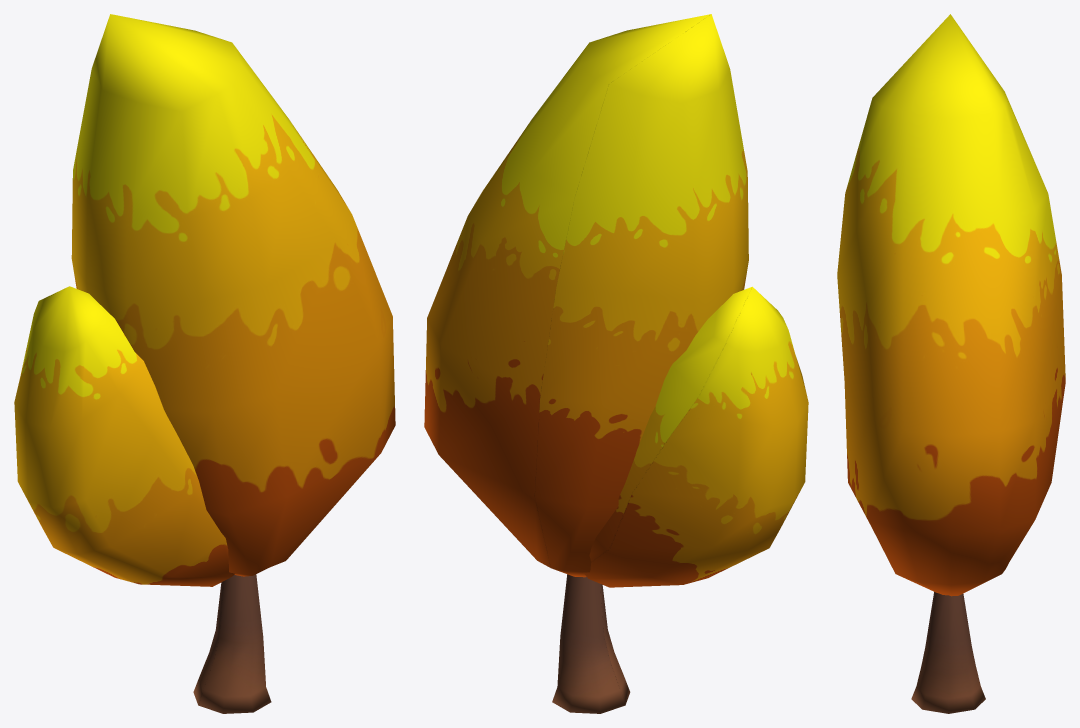
File: Tree_Orange2.fbx
3 views of the same model, side by side, from view 1: azimuth 30°, elevation 25°; view 2: azimuth 150°, elevation 25°; view 3: azimuth 270°, elevation 25° (orthographic). The views are drawn at different scales.
Visible parts, largest first — view 1: polySurface23; view 2: polySurface23; view 3: polySurface23.
Boxes of the visible parts, x1,y1,x2,y2 form: polySurface23: (14, 14, 395, 713); polySurface23: (424, 14, 808, 713); polySurface23: (837, 14, 1065, 713).
Size of the model in its own units: 3.58 by 6.83 by 2.24.
